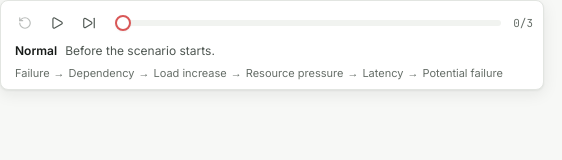
Scenario: SimulationPlayback › under reduced motion jumps between states without transitions
Note: Playback still advances: the state change stays understandable (spec §101).
Click the button named "Play" at (57, 23), box 43,9 -> 71,37
Wait 1400 ms
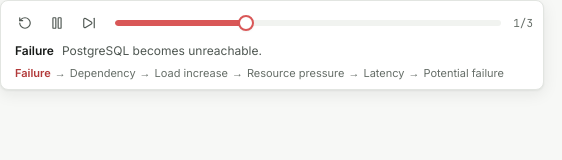
Expected: the message reads "Failure", 15,43 -> 54,58
